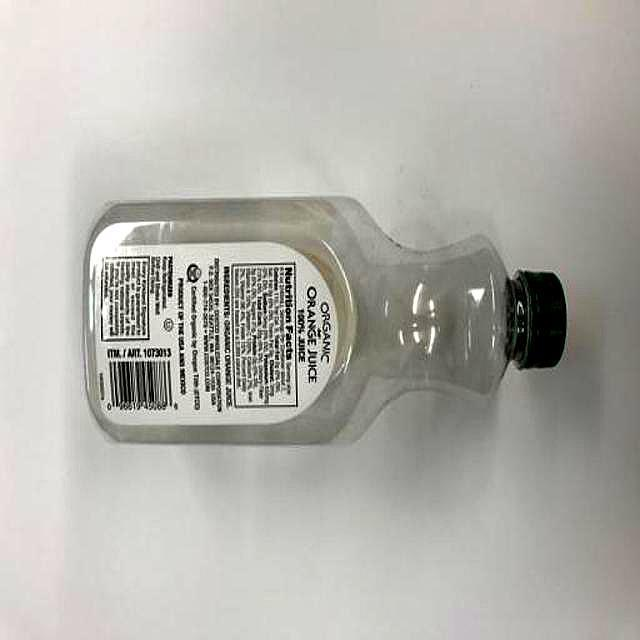Non-biodegradable: (81, 194, 569, 449)
